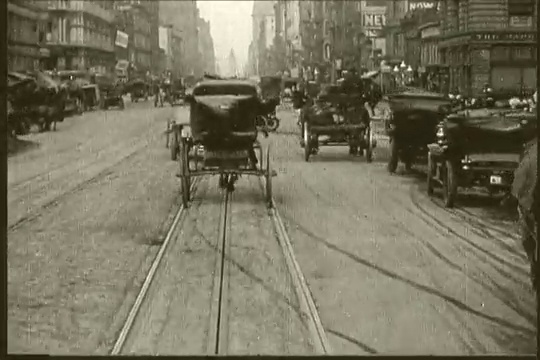car: (421, 95, 540, 208), (377, 89, 460, 172)
carriage: (166, 74, 280, 211), (293, 74, 383, 165)
